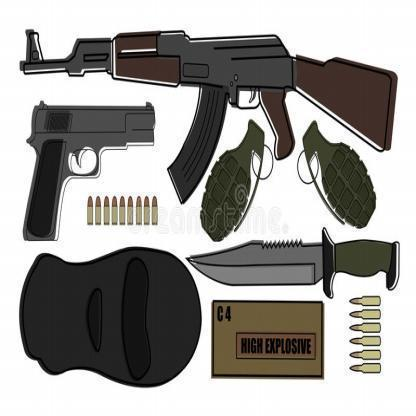Grenade: (200, 117, 274, 243), (296, 117, 378, 230)
Gun: (18, 26, 399, 206)
Knife: (184, 226, 401, 300)
Pistol: (22, 98, 157, 244)
